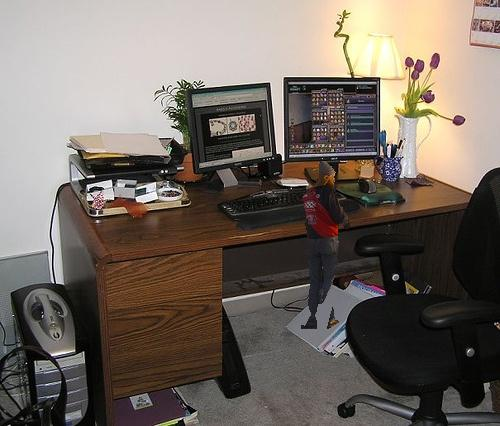tampered: (302, 159, 350, 329)
